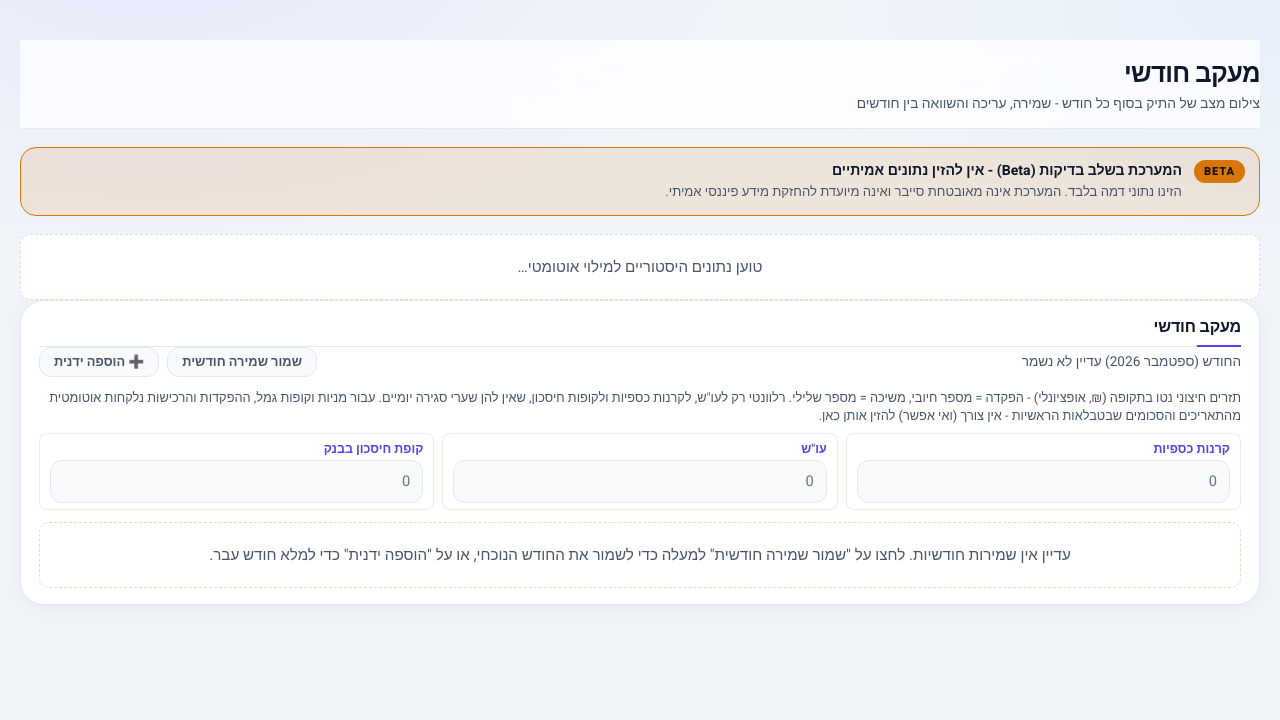
Test case: MonthlyTrackerView › "➕ הוספה ידנית" (manual backfill of a forgotten past month) › there is no cash-flow field for stocks or provident funds - those flows come from the main tables
The width and height of the screenshot is (1280, 720).
Click the button "➕ הוספה ידנית" at (99, 362), box x1=39 y1=347 x2=159 y2=377
(page scrolled)
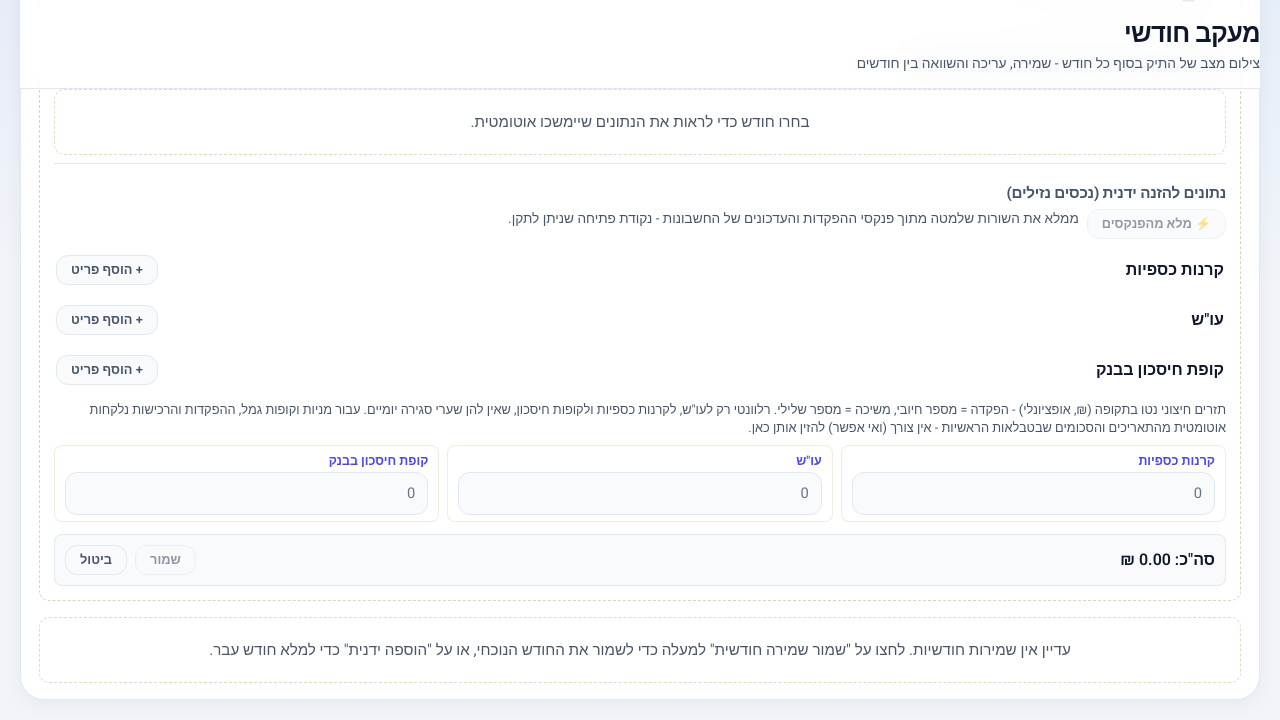
Result: the number field with id "manual-add-cashflow-cashFunds" is shown at x1=852 y1=472 x2=1215 y2=515
Result: the number field with id "manual-add-cashflow-bank" is shown at x1=458 y1=472 x2=822 y2=515
Result: the number field with id "manual-add-cashflow-bankSavings" is shown at x1=65 y1=472 x2=428 y2=515
